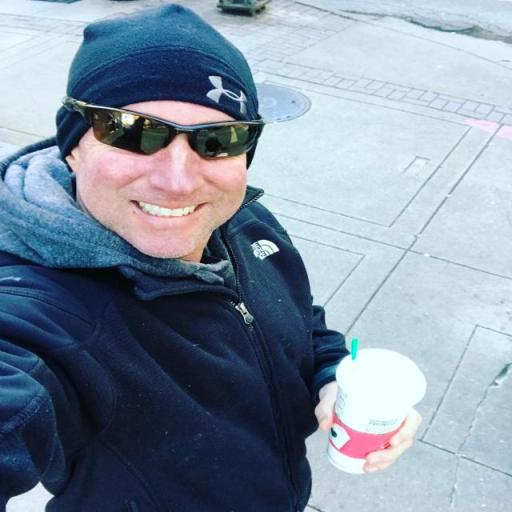Under Armour: (204, 73, 250, 111)
